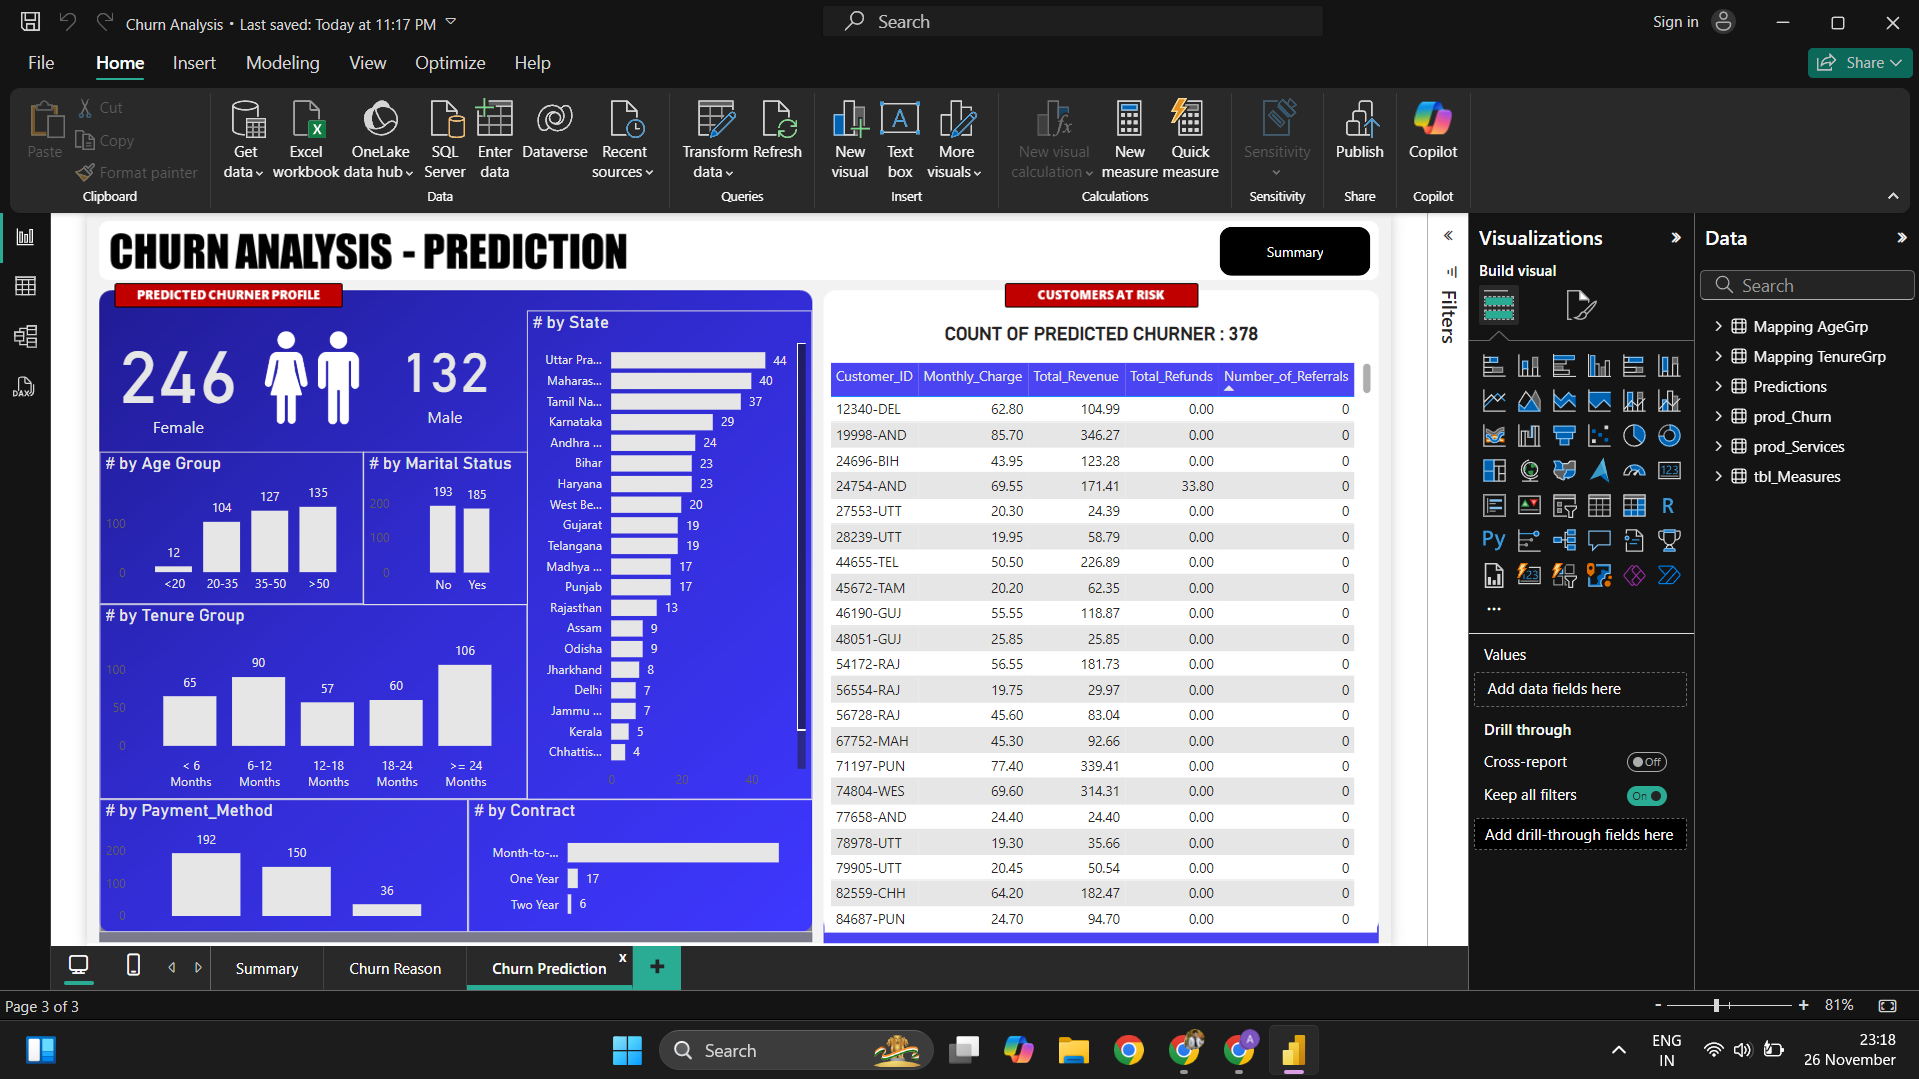

What the dashboard file says about the page in this screenshot:
{"tool":"powerbi","page":{"name":"Churn Prediction","canvas":[1280,720],"ordinal":2},"visuals":[{"type":"tableEx","fields":{"Values":["Predictions.Customer_ID","Predictions.Monthly_Charge","Predictions.Total_Revenue","Predictions.Total_Refunds","Predictions.Number_of_Referrals"]},"box":[724.5,142.7,542,564],"z":0},{"type":"card","fields":{"Values":["tbl_Measures.Title Predicted Churner"]},"box":[767.1,96.1,458.3,46.7],"z":1000},{"type":"card","fields":{"Values":["tbl_Measures.Count Predicted Churner"]},"box":[23.5,97.6,132.9,125.9],"z":2000},{"type":"card","fields":{"Values":["tbl_Measures.Count Predicted Churner"]},"box":[287.6,97.6,128.8,125.9],"z":3000},{"type":"clusteredColumnChart","fields":{"Category":["Mapping AgeGrp.Age Group"],"Y":["CountNonNull(Predictions.Customer_ID)"]},"box":[12.3,234.6,259.3,149.6],"z":4000},{"type":"clusteredColumnChart","fields":{"Category":["Predictions.Married"],"Y":["CountNonNull(Predictions.Customer_ID)"]},"box":[271.4,234.3,161.4,150],"z":5000},{"type":"clusteredColumnChart","fields":{"Y":["CountNonNull(Predictions.Customer_ID)"],"Category":["Mapping TenureGrp.Tenure Group"]},"box":[12.9,384.3,420,191.4],"z":6000},{"type":"clusteredColumnChart","fields":{"Y":["CountNonNull(Predictions.Customer_ID)"],"Category":["Predictions.Payment_Method"]},"box":[12.9,575.7,361.4,130],"z":7000},{"type":"clusteredBarChart","fields":{"Y":["CountNonNull(Predictions.Customer_ID)"],"Category":["Predictions.Contract"]},"box":[374.3,575.7,338.6,130],"z":8000},{"type":"clusteredBarChart","fields":{"Y":["CountNonNull(Predictions.Customer_ID)"],"Category":["Predictions.State"]},"box":[432.2,96.1,279.9,480.3],"z":9000},{"type":"image","box":[156.5,97.6,126.5,125.9],"z":10000},{"type":"shape","box":[1111.7,13.3,148.3,48.3],"z":11000}]}

Visuals, with their boxes on the page's 1280x720 design canvas (x1, y1, x2, y2). These are canvas units, not pixel positions in the 1919x1079 screenshot, which may show the page scaled, cropped or inside an application window:
tableEx - Predictions.Customer_ID x Predictions.Monthly_Charge: 724,143,1266,707
card - tbl_Measures.Title Predicted Churner: 767,96,1225,143
card - tbl_Measures.Count Predicted Churner: 24,98,156,224
card - tbl_Measures.Count Predicted Churner: 288,98,416,224
clusteredColumnChart - Mapping AgeGrp.Age Group x CountNonNull(Predictions.Customer_ID): 12,235,272,384
clusteredColumnChart - Predictions.Married x CountNonNull(Predictions.Customer_ID): 271,234,433,384
clusteredColumnChart - CountNonNull(Predictions.Customer_ID) x Mapping TenureGrp.Tenure Group: 13,384,433,576
clusteredColumnChart - CountNonNull(Predictions.Customer_ID) x Predictions.Payment_Method: 13,576,374,706
clusteredBarChart - CountNonNull(Predictions.Customer_ID) x Predictions.Contract: 374,576,713,706
clusteredBarChart - CountNonNull(Predictions.Customer_ID) x Predictions.State: 432,96,712,576
image: 156,98,283,224
shape: 1112,13,1260,62
